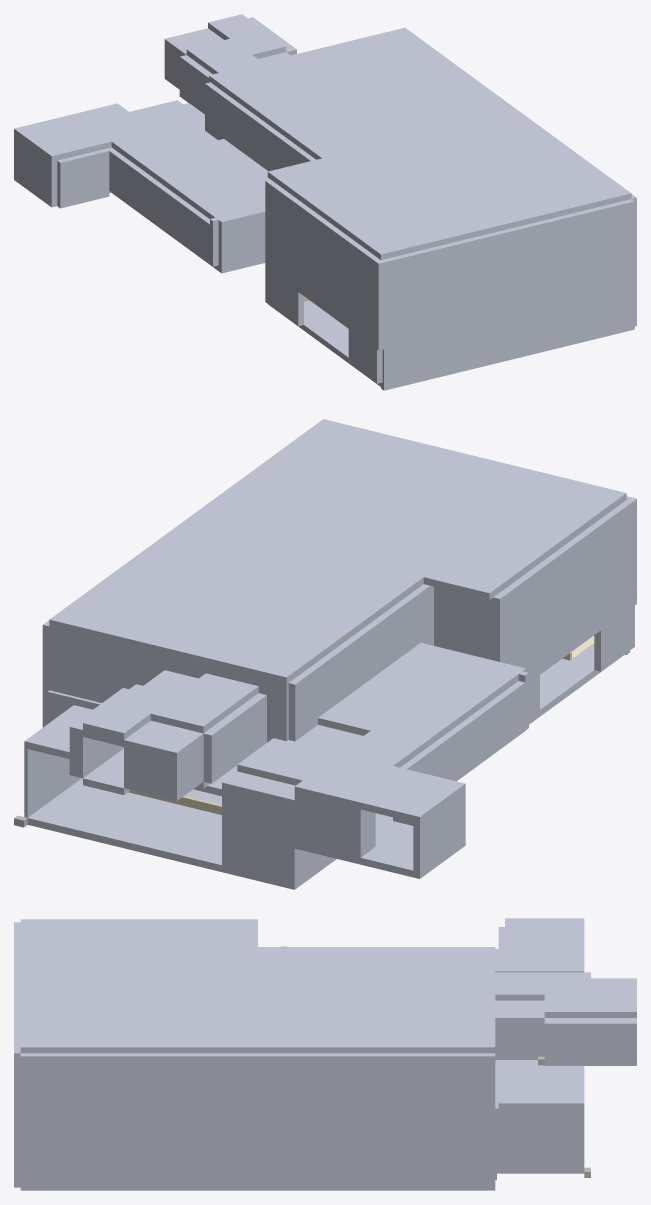
File: Room3_Primitives.fbx
The picture shows the model from 3 angles, top to bottom: view 1: azimuth 30°, elevation 25°; view 2: azimuth 150°, elevation 25°; view 3: azimuth 270°, elevation 25°; orthographic projection. The views are drawn at different scales.
Parts seen in each view (by area): view 1: Room3_Primitives2, Room3_Battlements, Room3_Hallway, Room3_Vent; view 2: Room3_Primitives2, Room3_Hallway, Room3_Battlements, Room3_Vent; view 3: Room3_Primitives2, Room3_Hallway, Room3_Vent.
Boxes of the visible parts, x1,y1,x2,y2 form: Room3_Primitives2: [204, 27, 636, 390]; Room3_Battlements: [106, 125, 270, 273]; Room3_Hallway: [14, 100, 204, 208]; Room3_Vent: [164, 14, 296, 114]; Room3_Primitives2: [42, 419, 636, 814]; Room3_Hallway: [14, 705, 465, 889]; Room3_Battlements: [281, 643, 528, 822]; Room3_Vent: [69, 670, 266, 801]; Room3_Primitives2: [14, 919, 498, 1190]; Room3_Hallway: [497, 918, 590, 1177]; Room3_Vent: [495, 972, 636, 1065].
Bounding box in the file's own units: 65 × 23.5 × 94.5.
